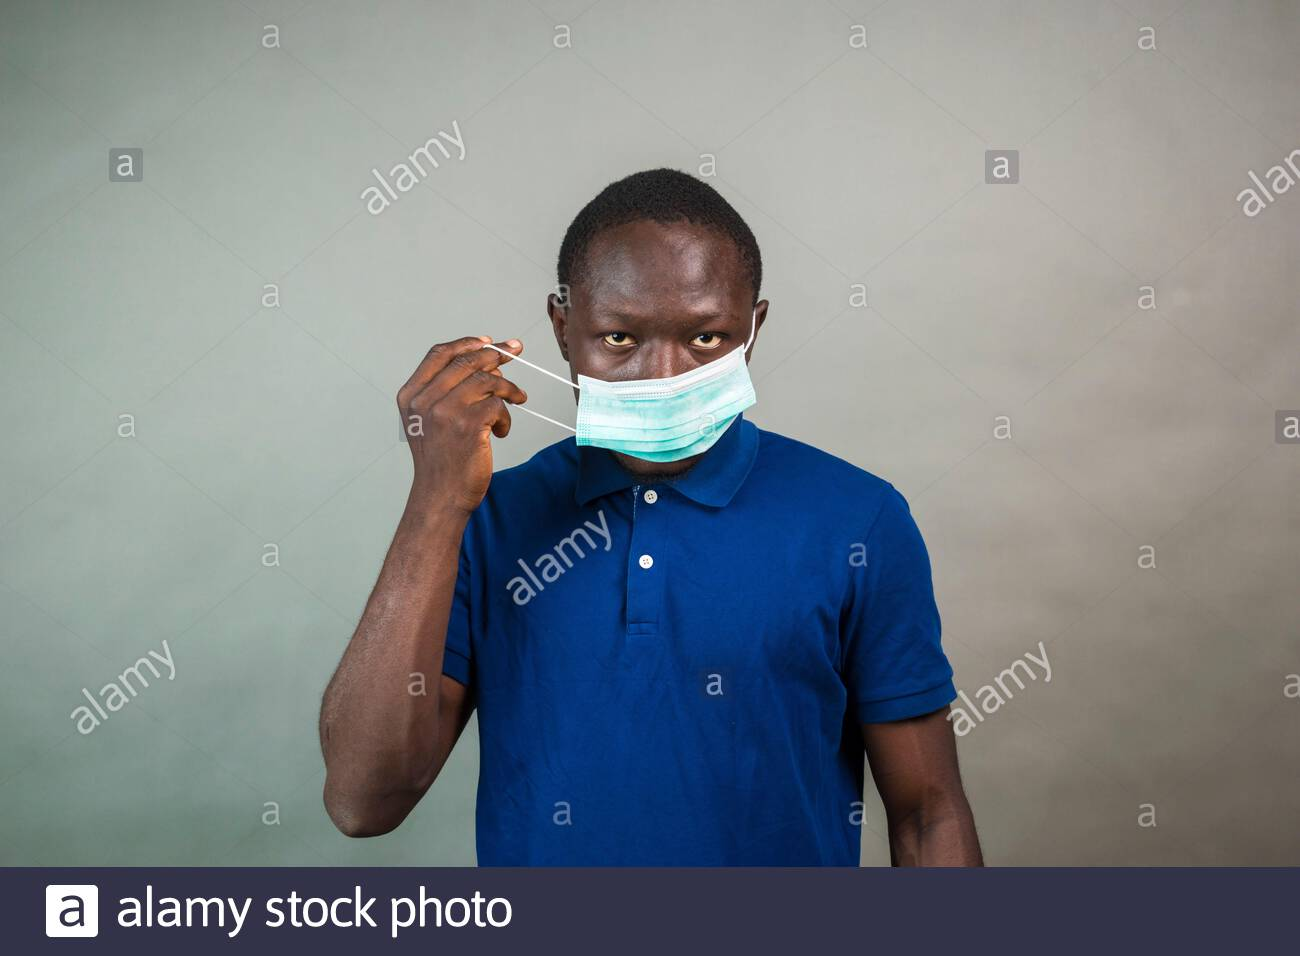with_mask: (544, 210, 785, 465)
